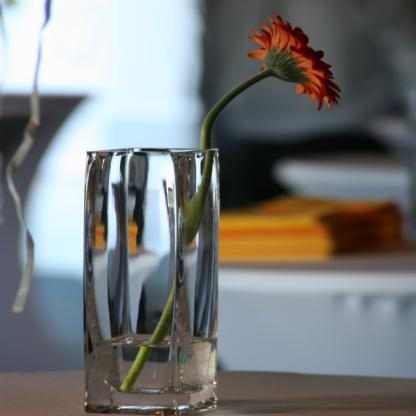vase: (82, 145, 222, 415)
